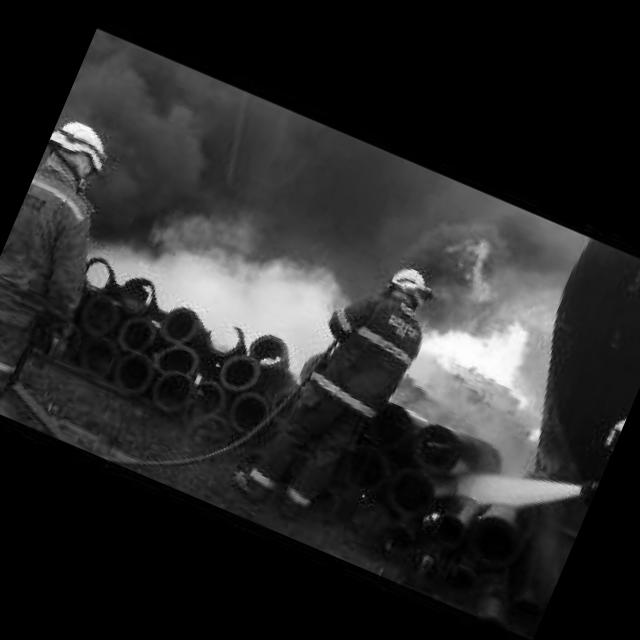fire: (396, 224, 584, 408), (525, 422, 545, 442)
